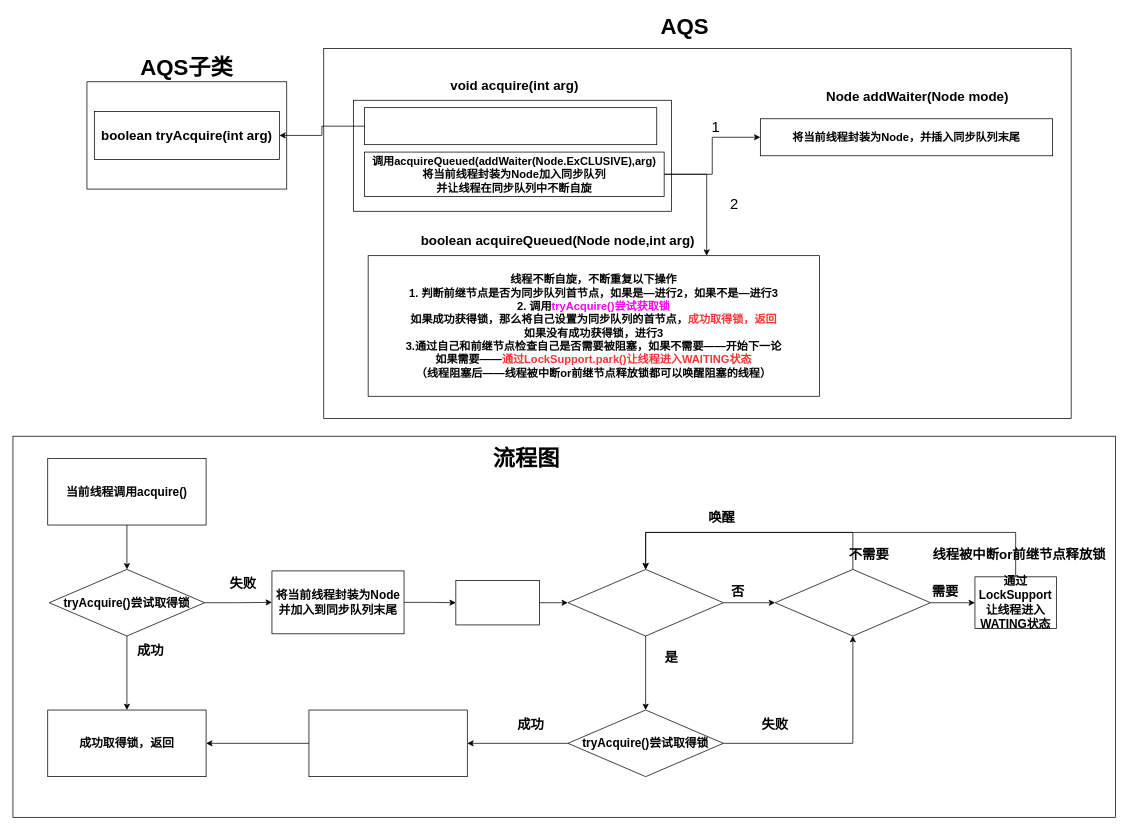
The diagram is 1129 pixels wide and 830 high, and some of its shapes have lost their labels. Here are the shapes that lost their labels. From the top down, the centre of each, then its label:
At pixel 510 126: "调用 tryAcquire(arg)(子类实现) 尝试获得锁 如果获得成功， 则返回".
At pixel 497 602: "开始自旋".
At pixel 645 602: "前继节点是否为首节点".
At pixel 852 602: "检查是否需要被阻塞".
At pixel 387 743: "将同步队列的首节点设为自己".
